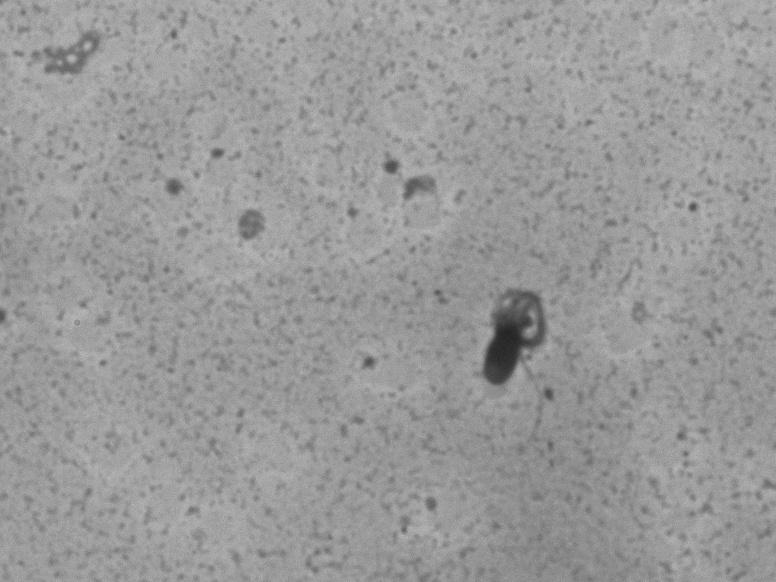Abnormal: (446, 271, 615, 440)
